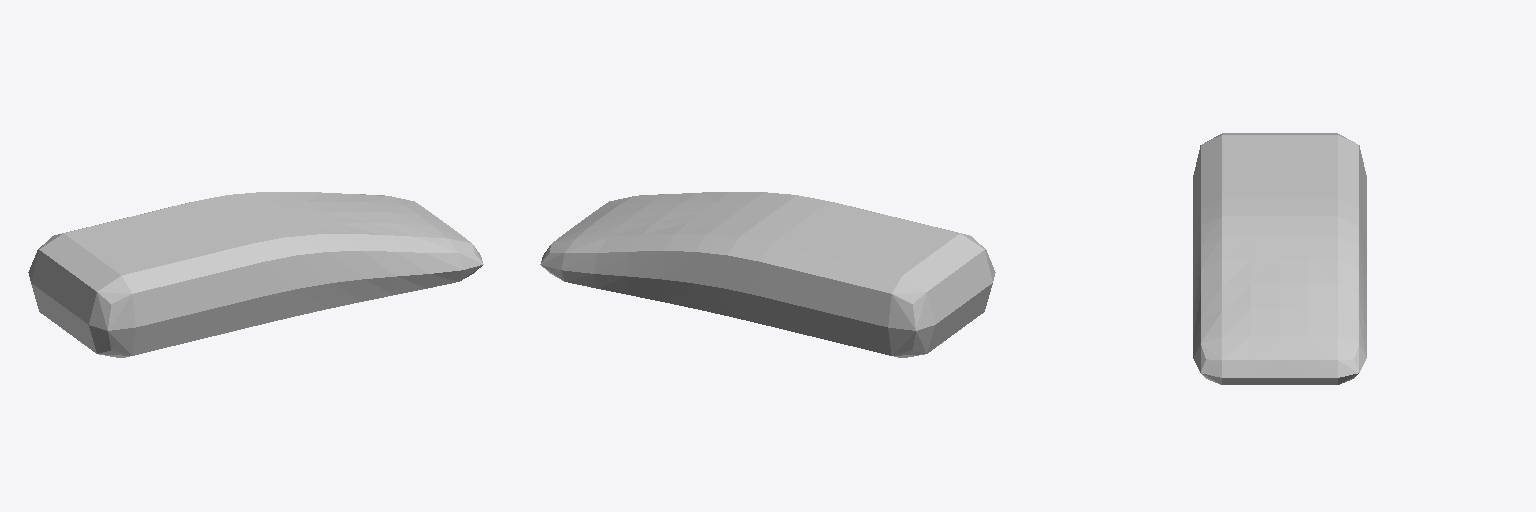
File: foot.obj
The picture shows the model from 3 angles: view 1: azimuth 30°, elevation 25°; view 2: azimuth 150°, elevation 25°; view 3: azimuth 270°, elevation 25°; orthographic projection.
Visible parts, largest first — view 1: Cube; view 2: Cube; view 3: Cube.
Part boxes in pixels (bbox=[...]): Cube: bbox=[28, 192, 483, 357]; Cube: bbox=[540, 192, 995, 357]; Cube: bbox=[1193, 133, 1366, 384].
Size of the model in its own units: 0.9904 by 0.2 by 0.3792.